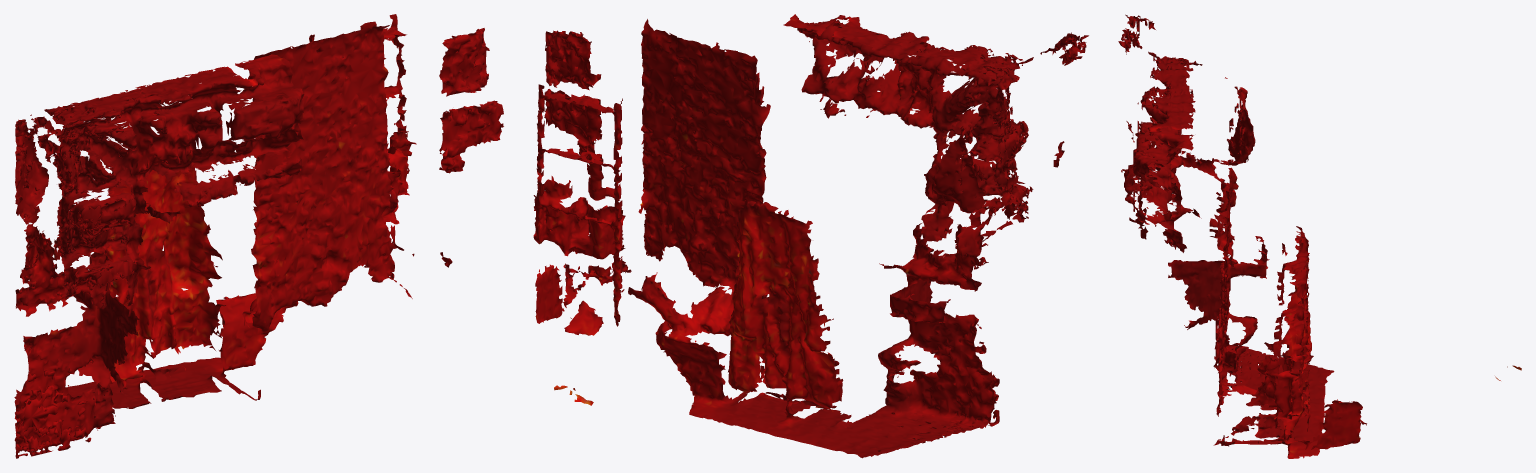
3 renders of one model, left to right at view 1: azimuth 30°, elevation 25°; view 2: azimuth 150°, elevation 25°; view 3: azimuth 270°, elevation 25°, orthographic. The views are drawn at different scales.
Bounding box in the file's own units: 3.03 × 2.16 × 2.46.
